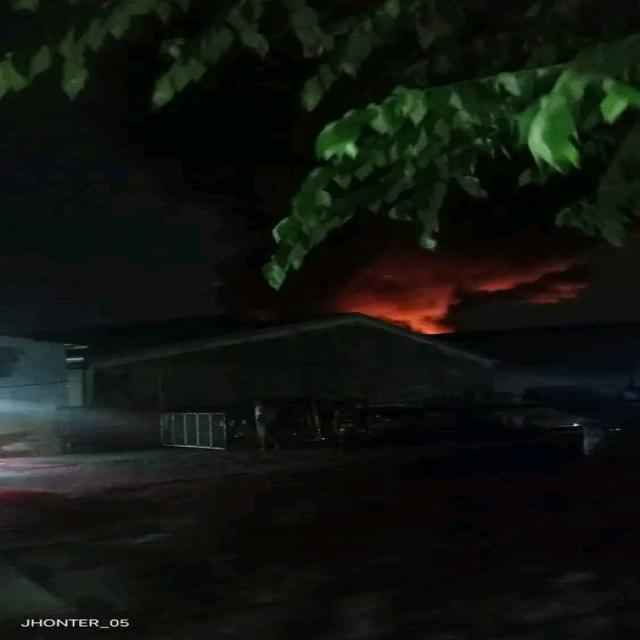Fire: (350, 298, 468, 338)
Smoke: (243, 185, 584, 317), (103, 86, 304, 222)
